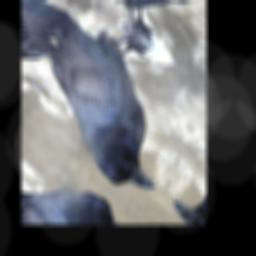Crow: (25, 0, 198, 210)
